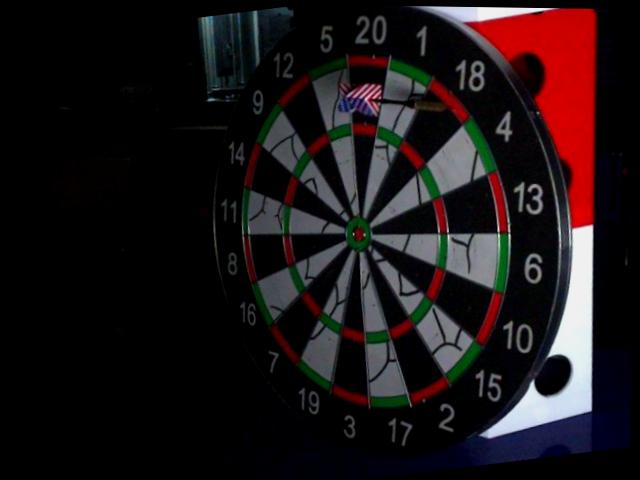double_18: (427, 81, 472, 123)
